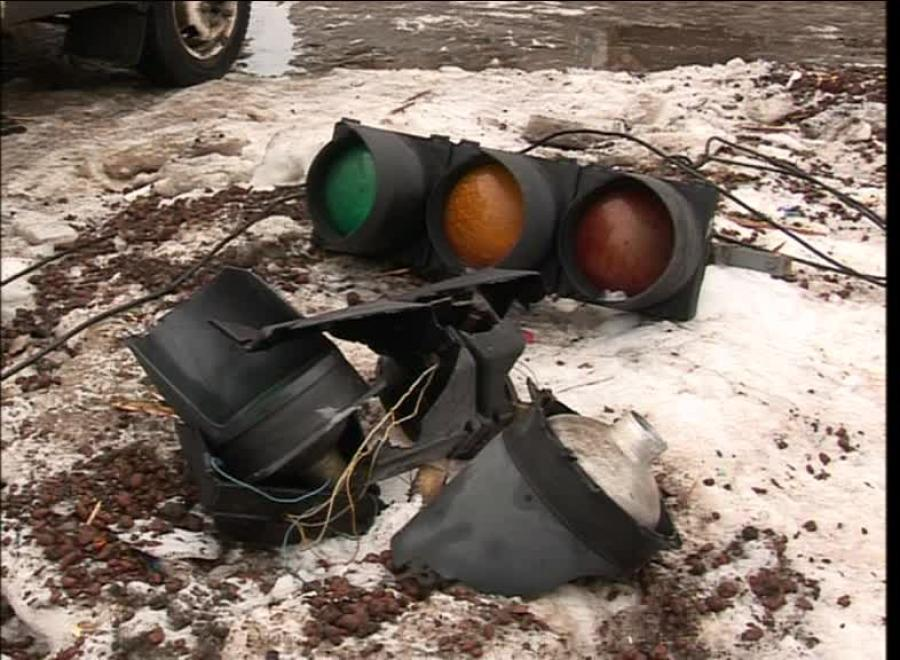off traffic light: (130, 119, 715, 595)
